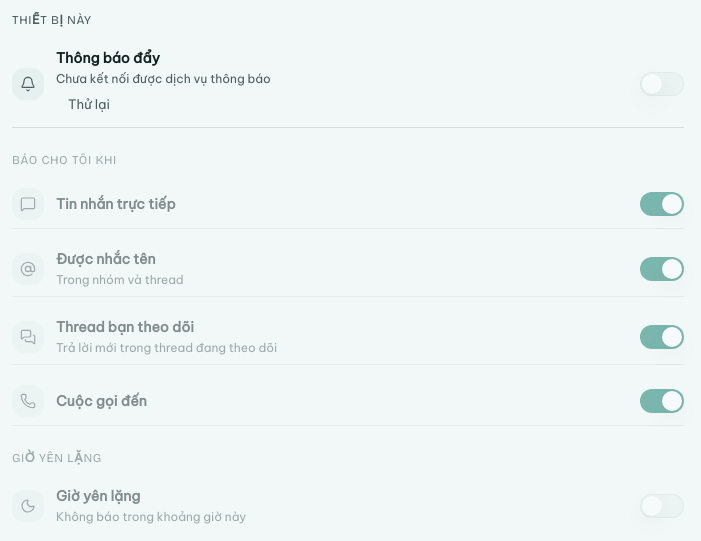
Test case: NotificationSettings component › shows a retryable failure instead of staying on "checking" when the SDK cannot start
This screenshot has width=701, height=541.
Expected: the text "Chưa kết nối được dịch vụ thông báo" is shown, [56,71,271,87]
Expected: the switch named "Thông báo đẩy trên thiết bị này" is disabled, [640,72,684,96]
Click the button "Thử lại": (89, 104) [56,89,122,119]
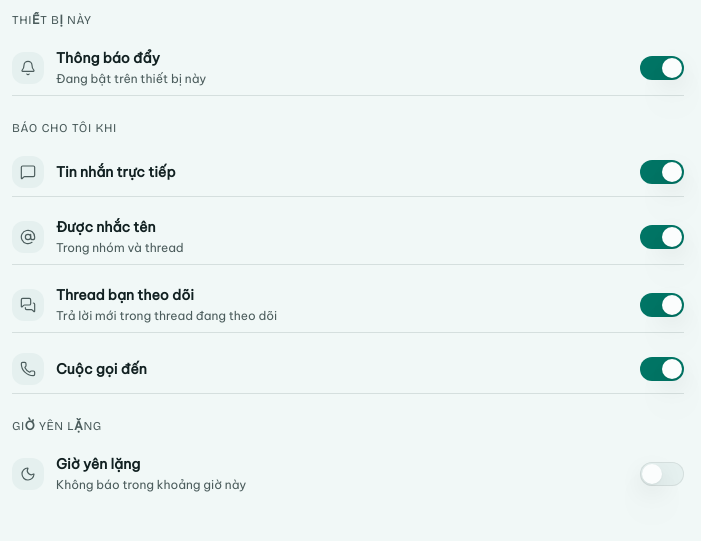
Result: the text "Chưa kết nối được dịch vụ thông báo" is gone
Result: the button "Thử lại" is gone
